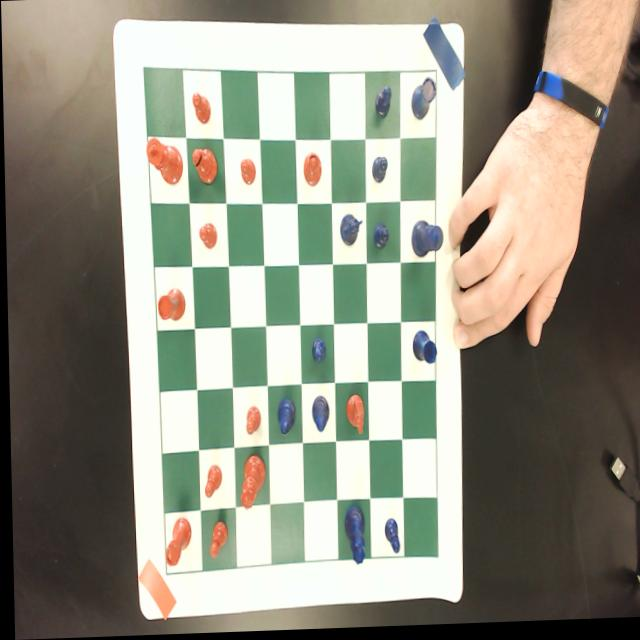B: (274, 399, 293, 437), (309, 396, 327, 435)
K: (409, 220, 441, 262)
N: (336, 212, 363, 249)
P: (380, 520, 398, 557), (373, 86, 391, 121), (369, 156, 387, 186), (371, 223, 387, 252), (308, 339, 325, 365)
Q: (341, 506, 363, 568)
R: (409, 79, 436, 124), (410, 332, 435, 368)
b: (190, 147, 217, 186), (301, 153, 320, 189)
k: (145, 135, 182, 188)
n: (342, 395, 362, 438)
p: (205, 520, 226, 560), (200, 464, 220, 500), (190, 93, 210, 126), (197, 224, 216, 253), (243, 406, 259, 438), (238, 159, 254, 188)
q: (236, 456, 263, 512)
r: (161, 517, 188, 569), (155, 289, 183, 322)
